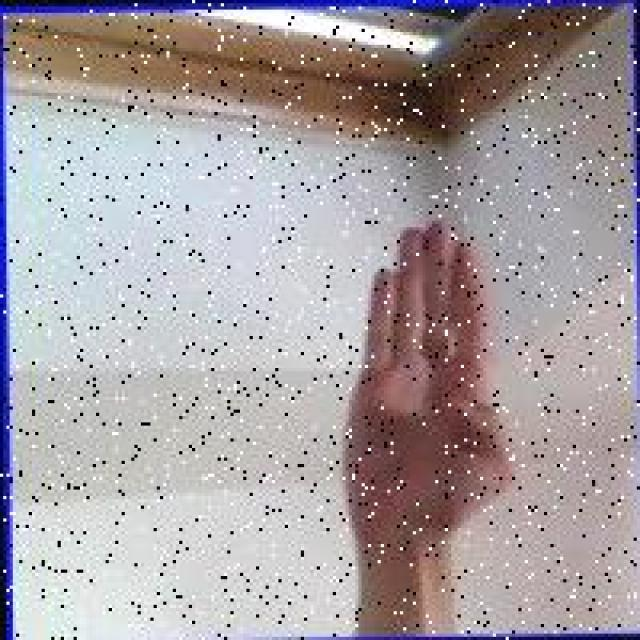B: (331, 205, 514, 582)
